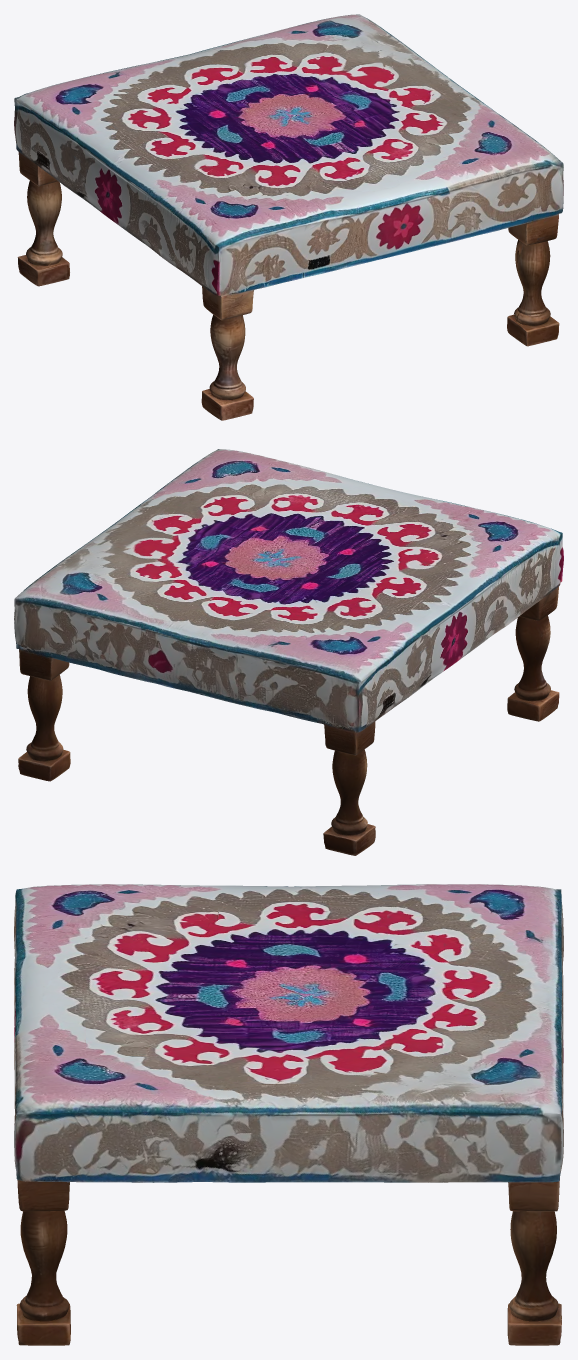
3 views of the same model, one above another, from view 1: azimuth 30°, elevation 25°; view 2: azimuth 150°, elevation 25°; view 3: azimuth 270°, elevation 25° (orthographic). The views are drawn at different scales.
Visible parts, largest first — view 1: model; view 2: model; view 3: model.
Boxes of the visible parts, x1,y1,x2,y2 form: model: (14, 14, 563, 420); model: (14, 449, 563, 855); model: (14, 884, 563, 1345).
Bounding box in the file's own units: 0.9011 × 0.46 × 0.9231.
Materials: 1 (1 with a texture image).
